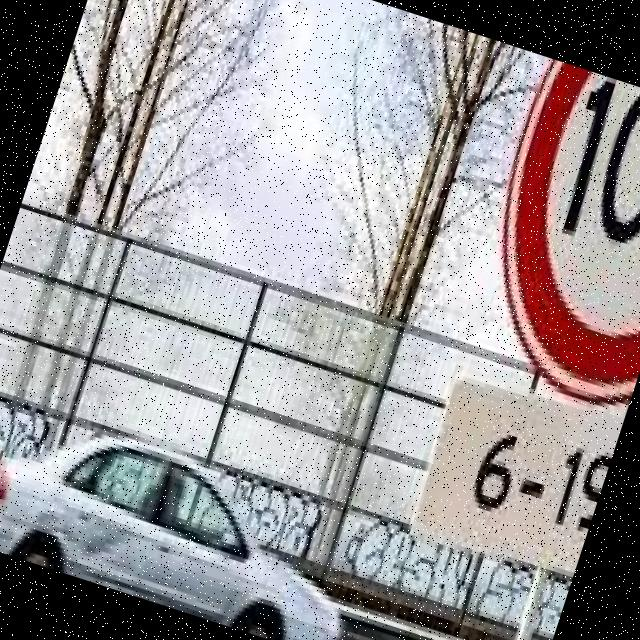speed_limit_100: (445, 56, 640, 414)
